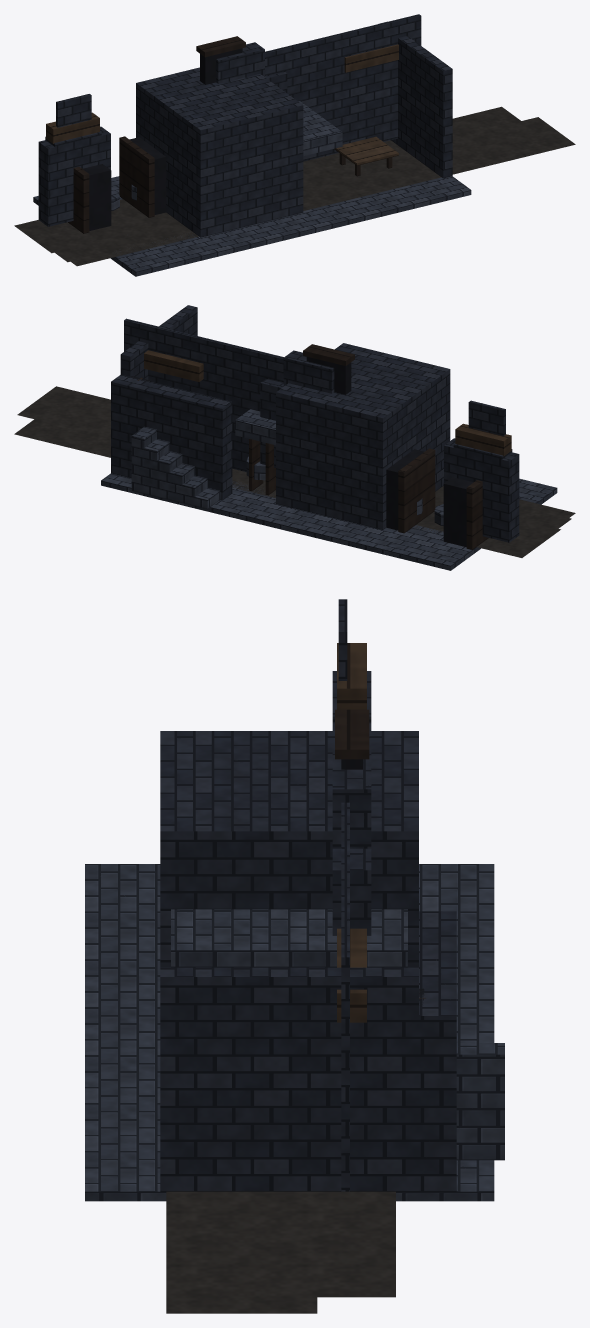
The model's file is tower.glb.
3 renders of one model, top to bottom at view 1: azimuth 30°, elevation 25°; view 2: azimuth 150°, elevation 25°; view 3: azimuth 270°, elevation 25°, orthographic. The views are drawn at different scales.
Parts seen in each view (by area): view 1: tower_stone_dark, tower_earth, tower_stone, tower_wood_dark, tower_void, tower_wood; view 2: tower_stone_dark, tower_stone, tower_earth, tower_wood_dark, tower_void, tower_wood; view 3: tower_stone_dark, tower_stone, tower_earth, tower_wood, tower_wood_dark.
Part boxes in pixels (box(x1,y1,x2,y2)): tower_stone_dark: box(38, 14, 452, 237); tower_earth: box(14, 106, 575, 266); tower_stone: box(33, 101, 471, 276); tower_wood_dark: box(68, 36, 392, 233); tower_void: box(82, 48, 242, 230); tower_wood: box(46, 44, 398, 165); tower_stone_dark: box(111, 305, 519, 542); tower_stone: box(101, 409, 557, 570); tower_earth: box(14, 386, 575, 557); tower_wood_dark: box(137, 344, 488, 549); tower_void: box(131, 356, 473, 546); tower_wood: box(144, 350, 511, 456); tower_stone_dark: box(160, 599, 456, 1191); tower_stone: box(85, 864, 504, 1201); tower_earth: box(166, 1191, 395, 1313); tower_wood: box(337, 643, 366, 1022); tower_wood_dark: box(335, 709, 425, 998).
Size of the model in its own units: 10.82 by 3 by 3.9.
6 materials, 6 textured.
